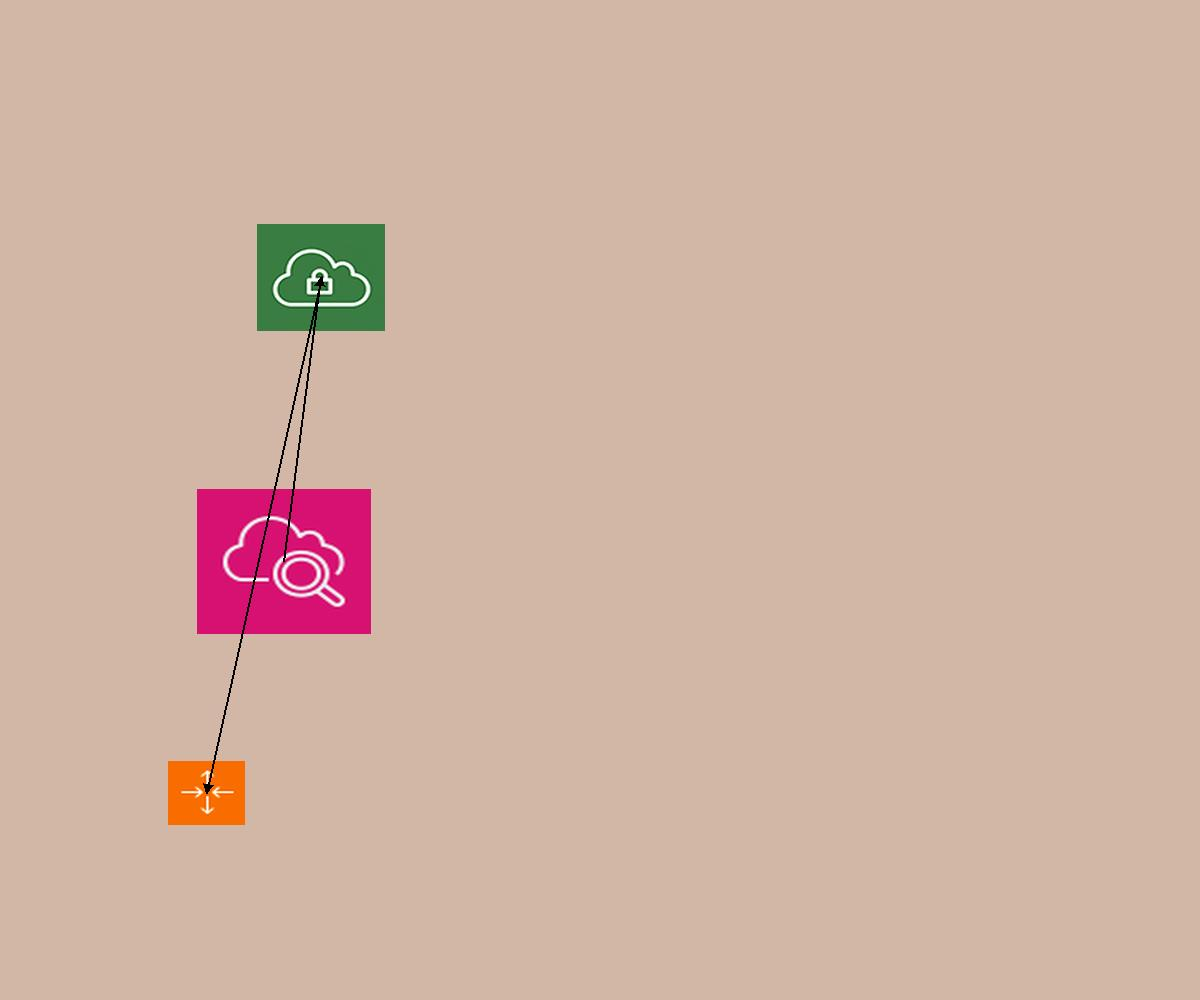AWS-CloudWatch: (197, 489, 371, 634)
AWS-Private_vpc: (257, 224, 385, 331)
AWS-Scaling-group: (168, 761, 245, 825)
